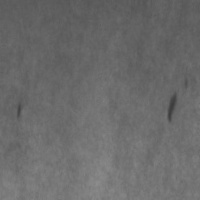inclusion: (164, 75, 190, 124), (12, 98, 25, 127)
